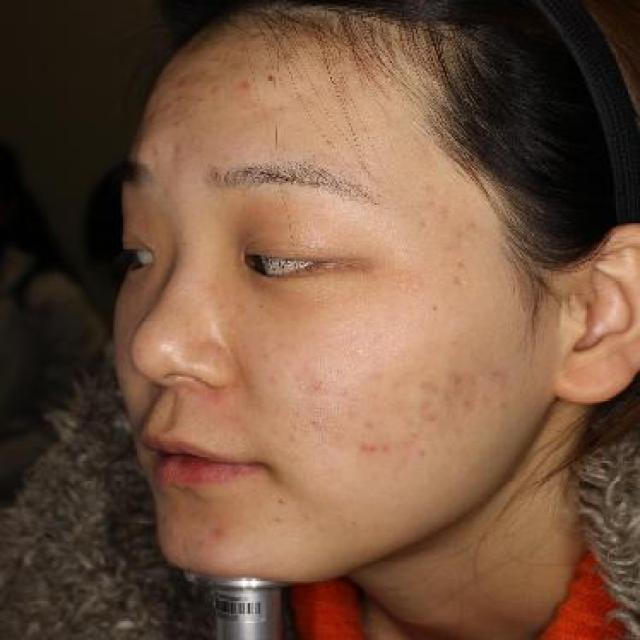Acne: (305, 374, 345, 398), (442, 365, 475, 394), (204, 519, 236, 543), (354, 435, 383, 461), (231, 76, 257, 96)
Blackheads: (259, 64, 287, 92)
